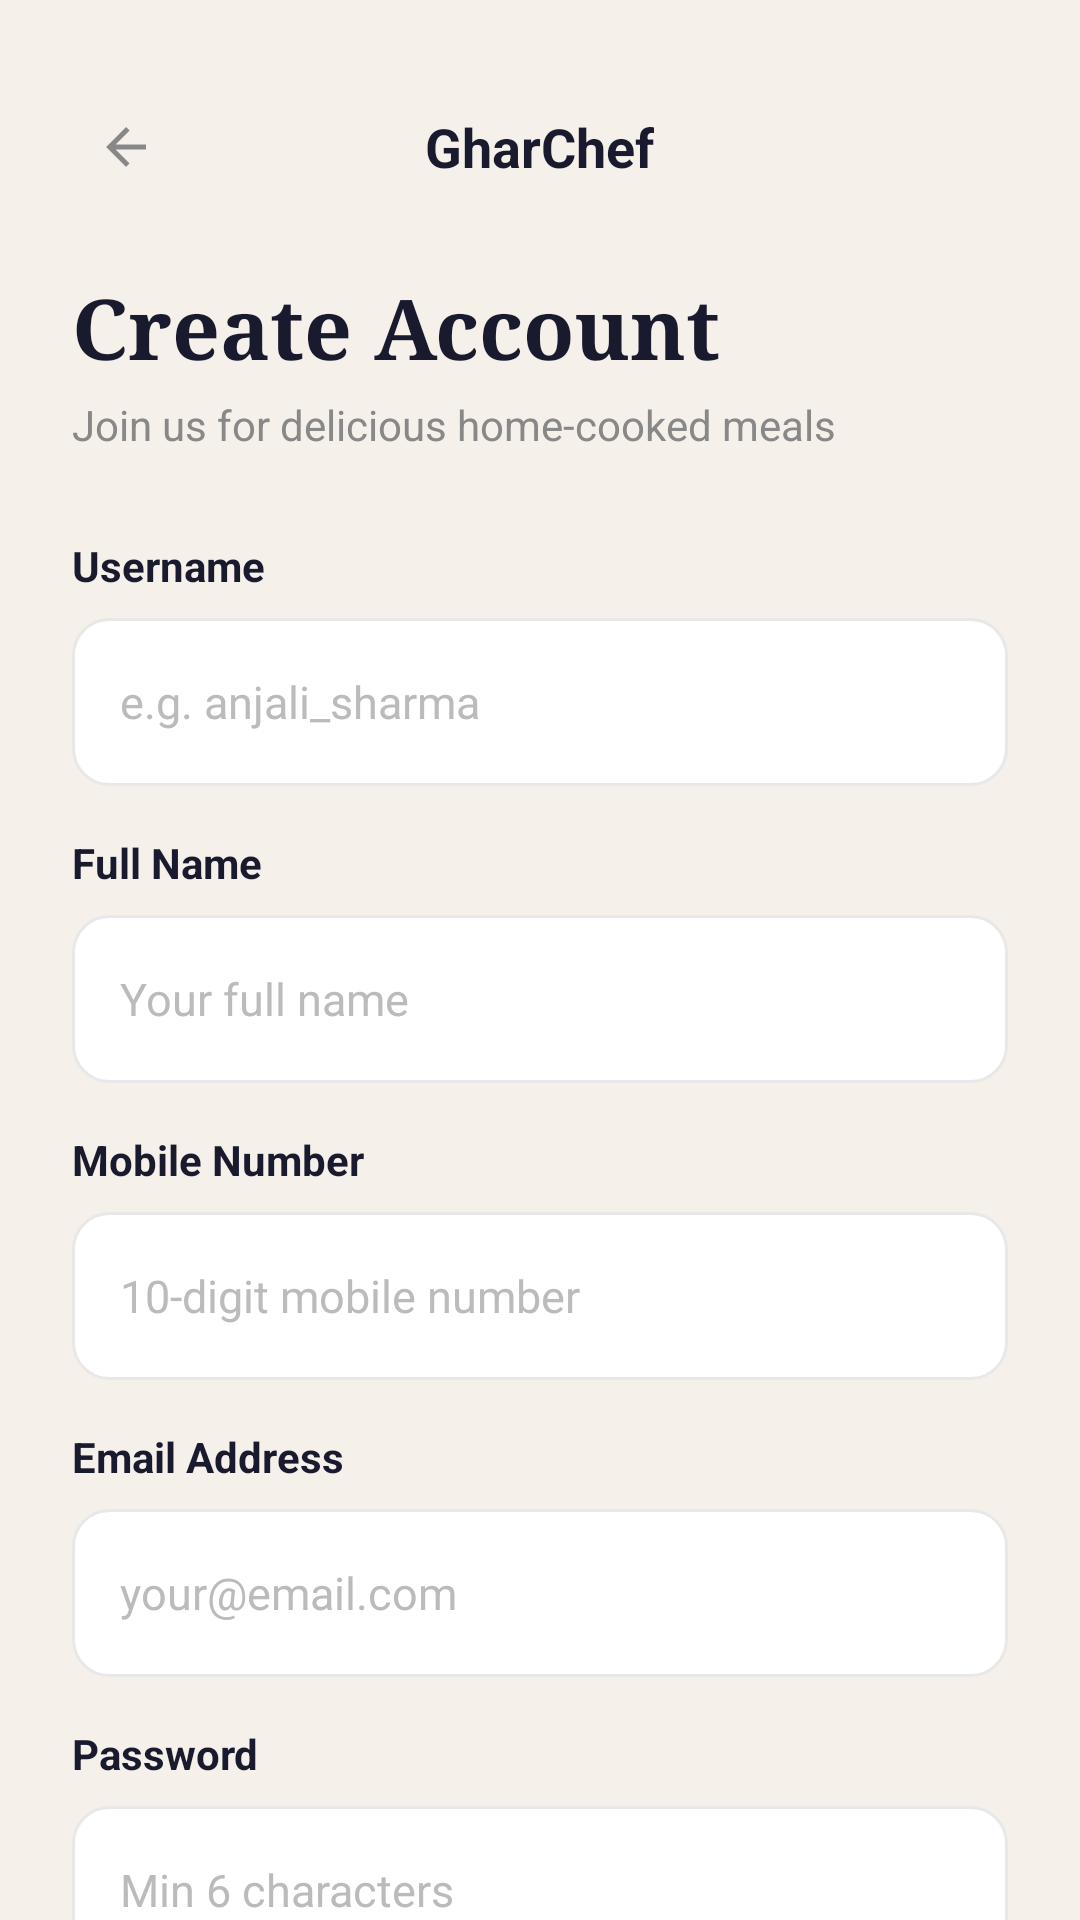

Icon click points for this 1080w x 1920h phone screenshot, format point (x, y):
Back: point (126, 147)
